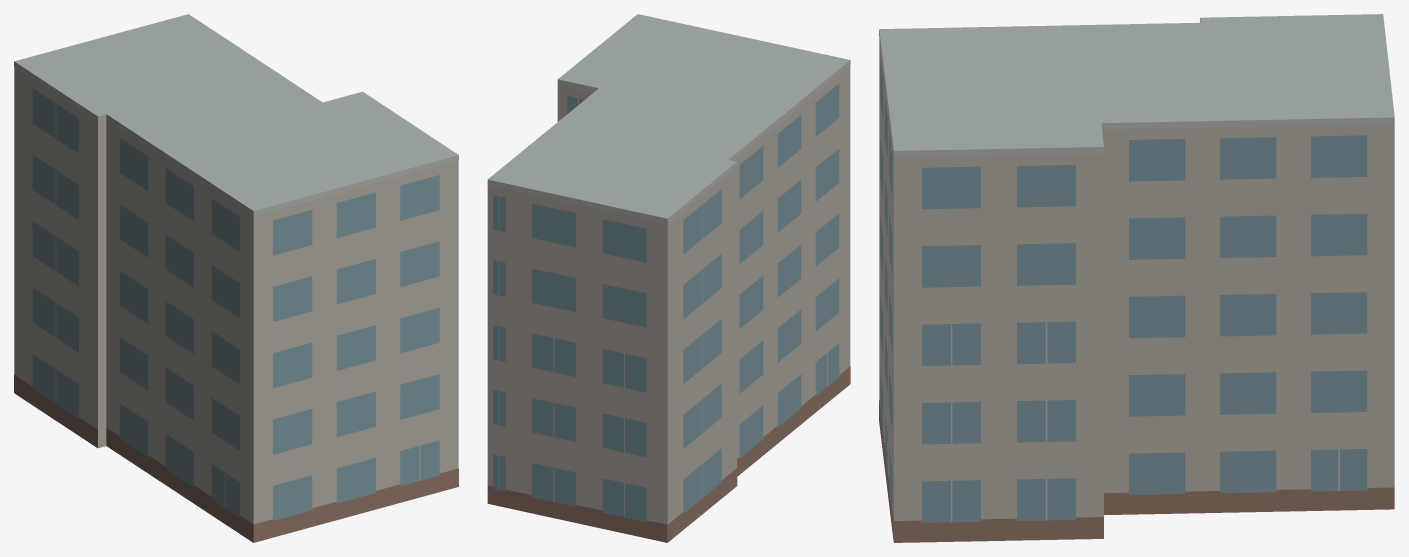
The model's file is survey-upis-32698616.glb.
The picture shows the model from 3 angles, left to right: view 1: azimuth 30°, elevation 25°; view 2: azimuth 150°, elevation 25°; view 3: azimuth 270°, elevation 25°; orthographic projection. The views are drawn at different scales.
Parts seen in each view (by area): view 1: survey-upis-32698616.tmp; view 2: survey-upis-32698616.tmp; view 3: survey-upis-32698616.tmp.
Part boxes in pixels (x1,y1,x2,y2): survey-upis-32698616.tmp: (14, 14, 458, 542); survey-upis-32698616.tmp: (487, 14, 850, 542); survey-upis-32698616.tmp: (879, 14, 1394, 542).
Bounding box in the file's own units: 11.14 × 14.85 × 17.72.
